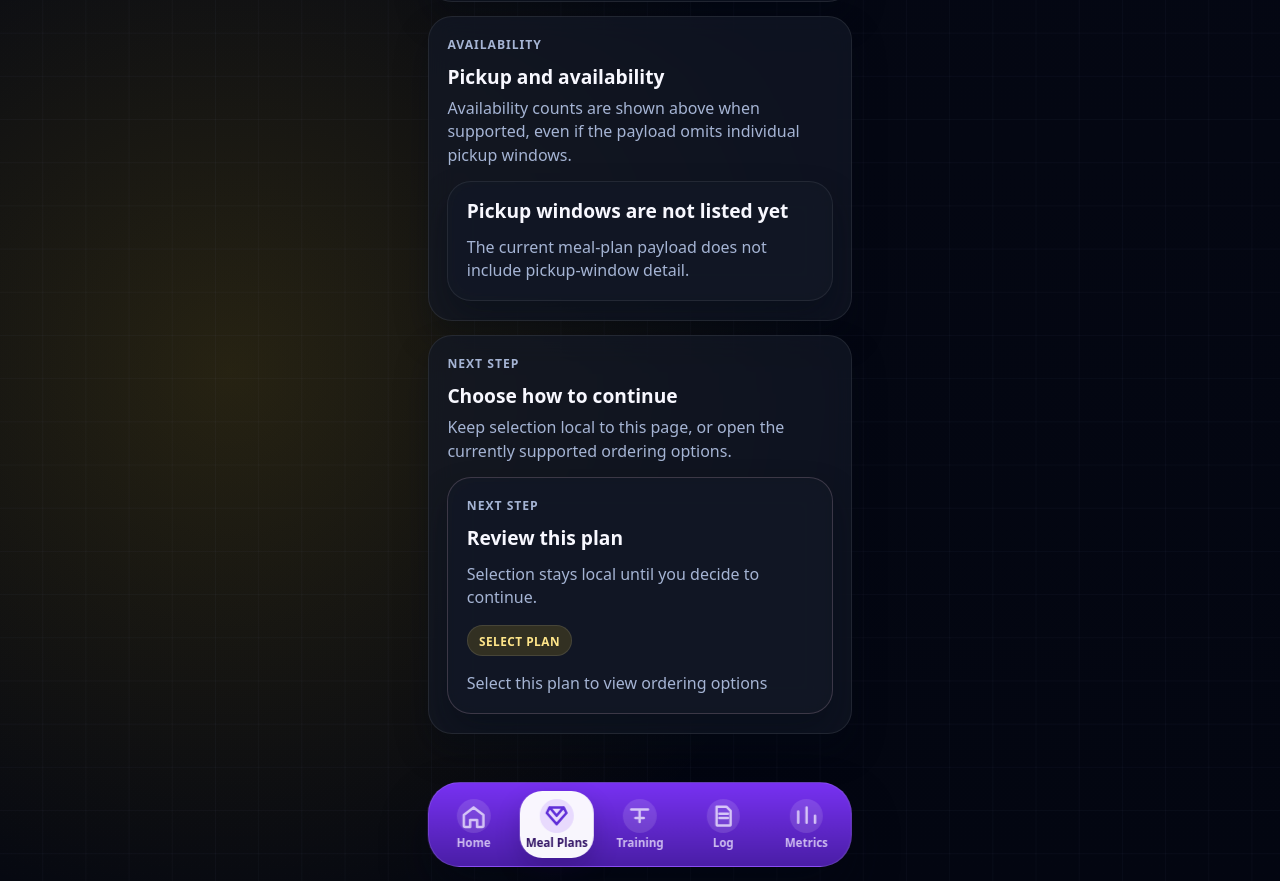
ClientMealPlanDetailPage mobile experience › shows checkout failure feedback and safe missing-data states
The width and height of the screenshot is (1280, 881).
(page scrolled)
Expected: the heading "Pickup windows are not listed yet" is shown, [467, 201, 813, 221]
Step 1. Click the button named "Select Lean Fuel Week for checkout" → click(520, 641), box [467, 625, 572, 656]
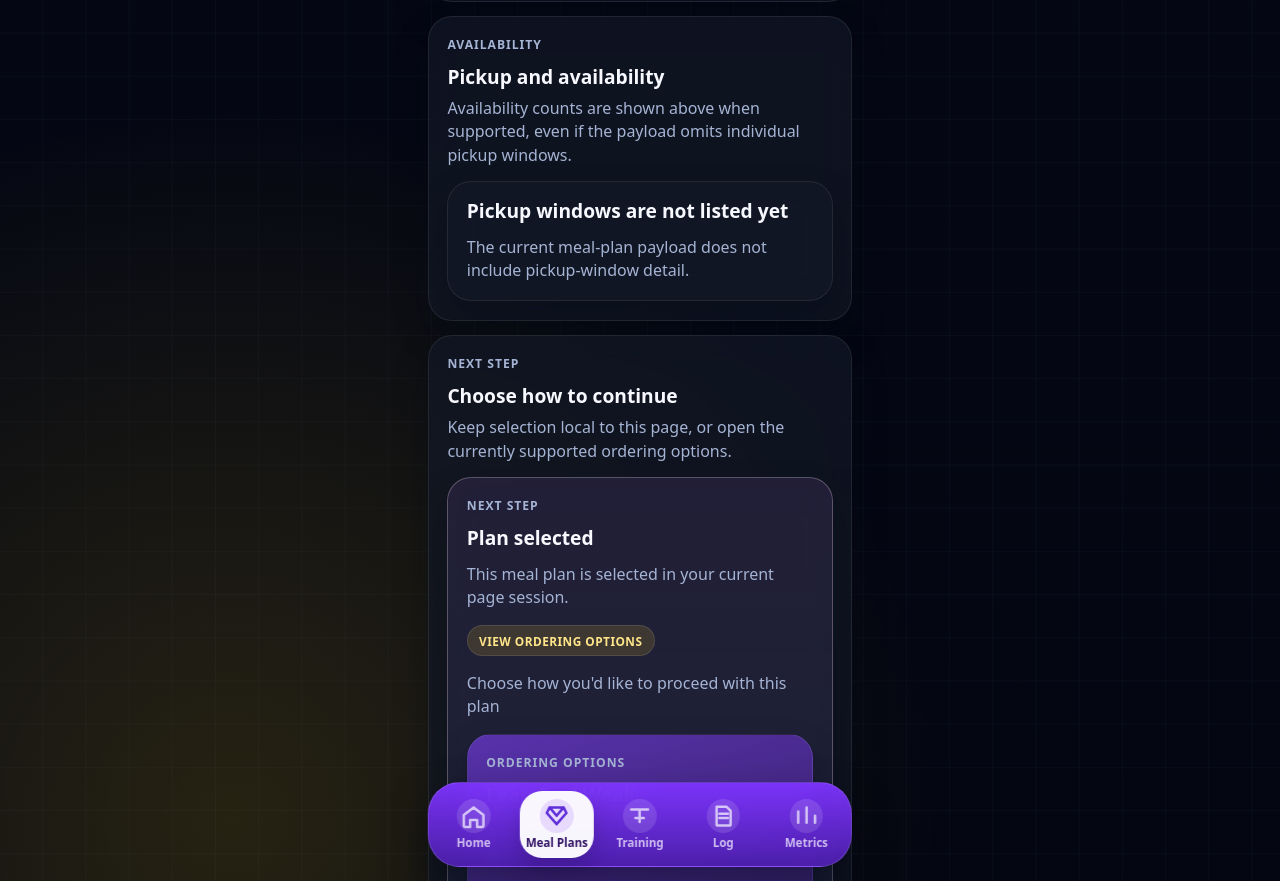
Expected: the button named "View ordering options for Lean Fuel Week" is shown
Step 2. Click the button named "View ordering options for Lean Fuel Week" → click(561, 641), box [467, 625, 655, 656]
(page scrolled)
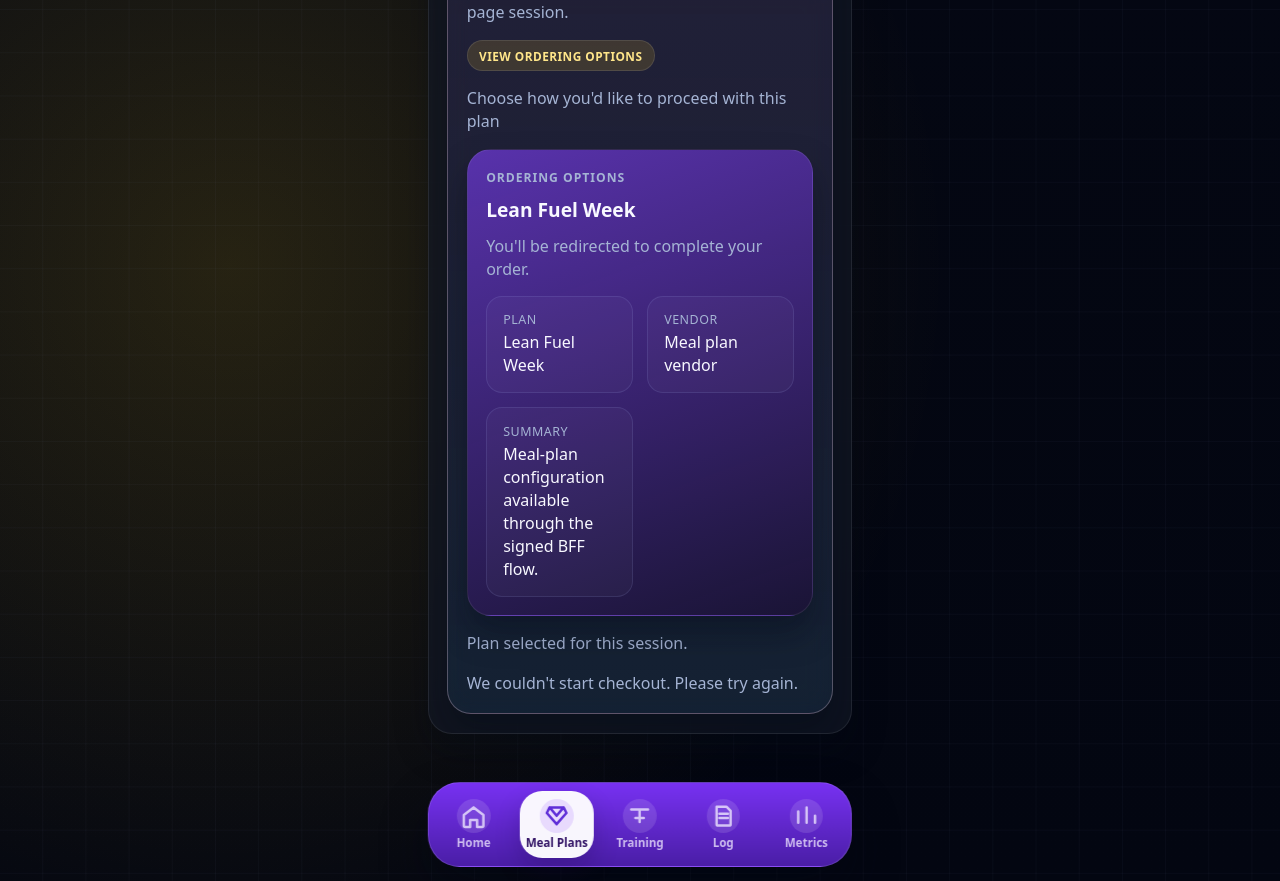
Expected: the text "We couldn't start checkout. Please try again." is shown, [467, 672, 813, 695]
